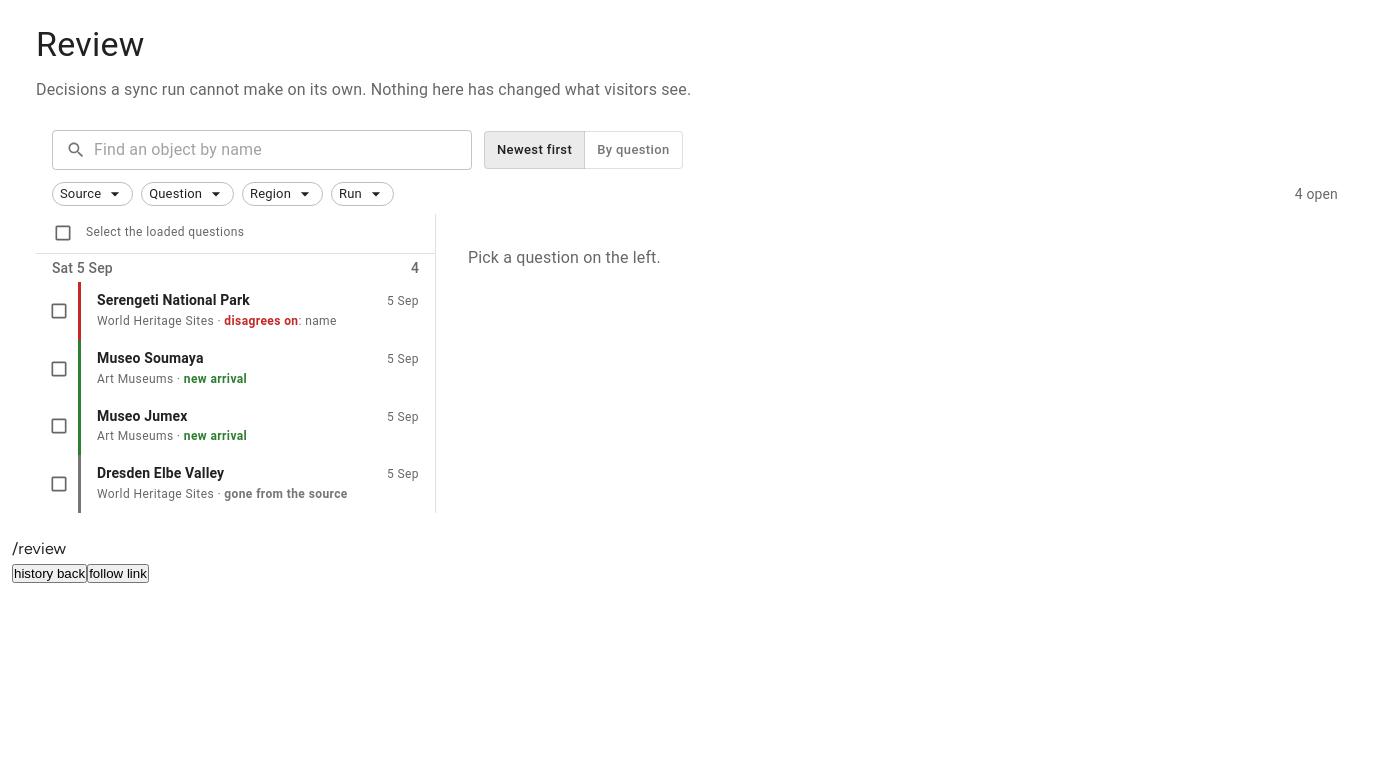
it: answering a selection › sends the ticked rows to the batch route in the server’s words and reports the line
Click the checkbox named "Select Museo Soumaya": click(59, 369) [49, 359, 69, 379]
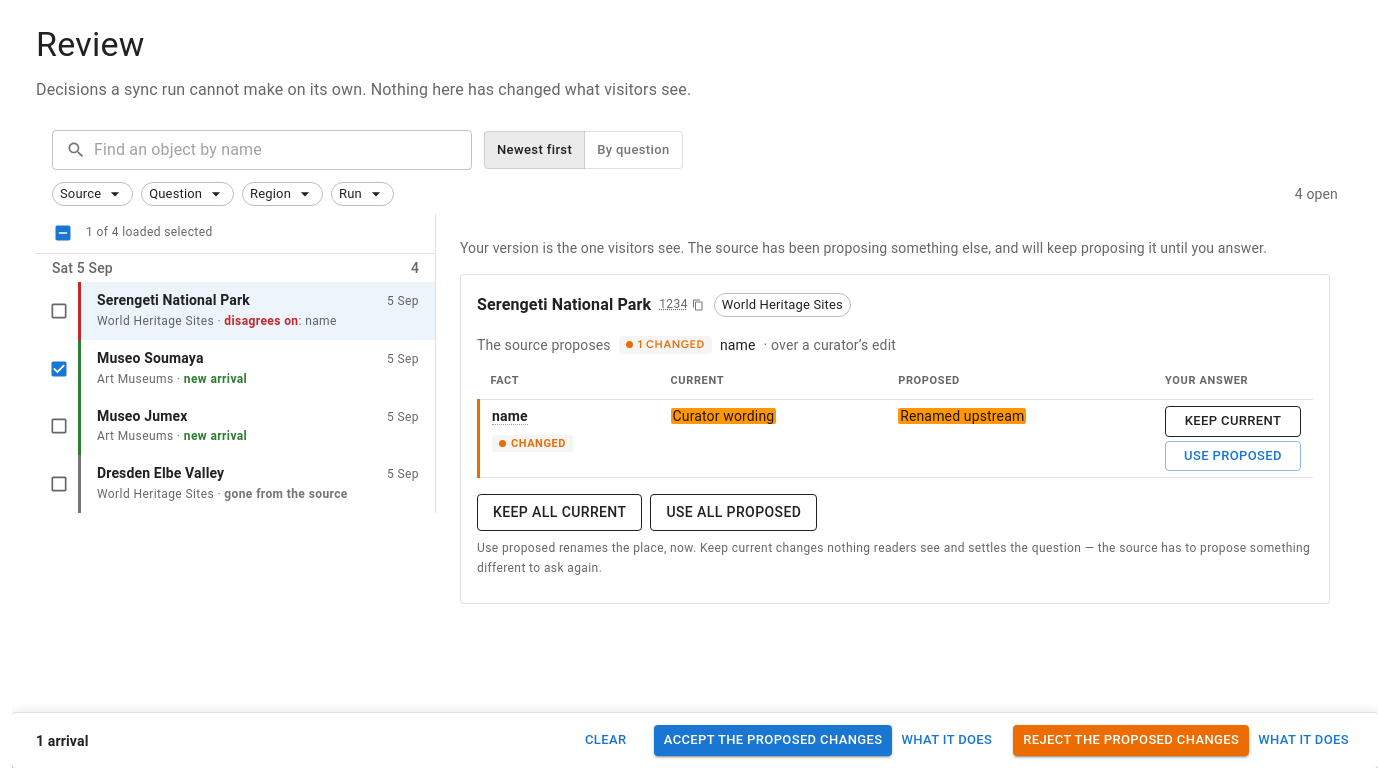
Click the checkbox named "Select Museo Jumex": click(59, 426) [49, 416, 69, 436]
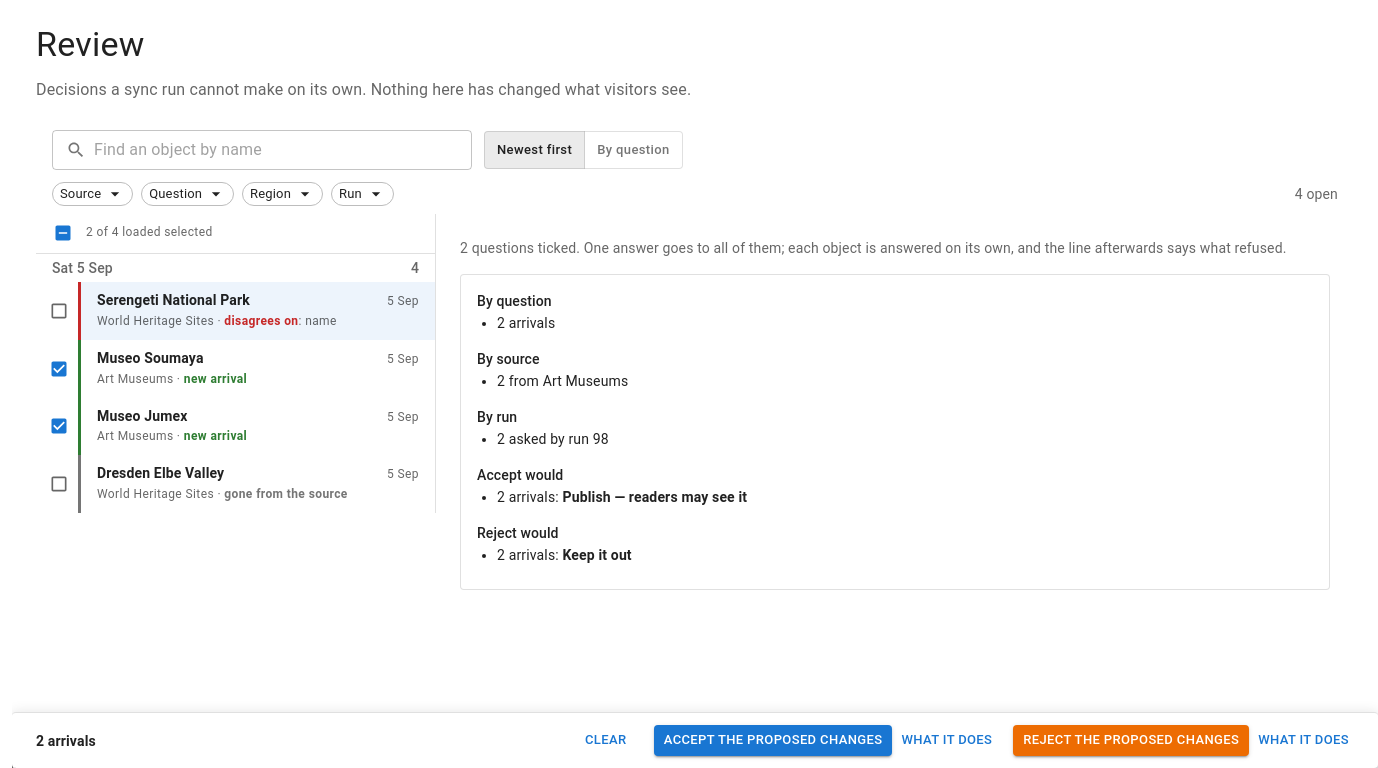
Click the button "Accept the proposed changes": click(773, 741) [654, 725, 892, 756]
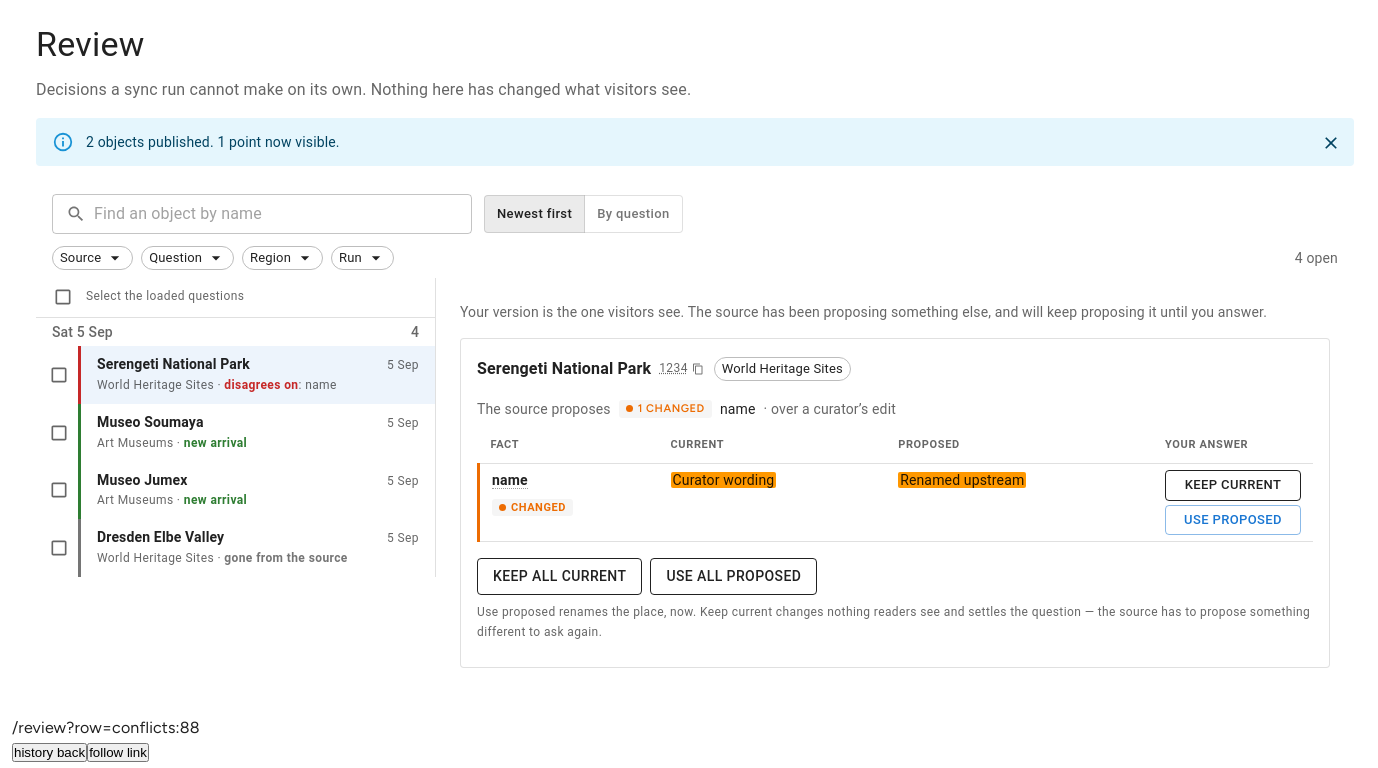
Expected: the text "2 objects published. 1 point now visible." is shown, [86, 134, 340, 150]
